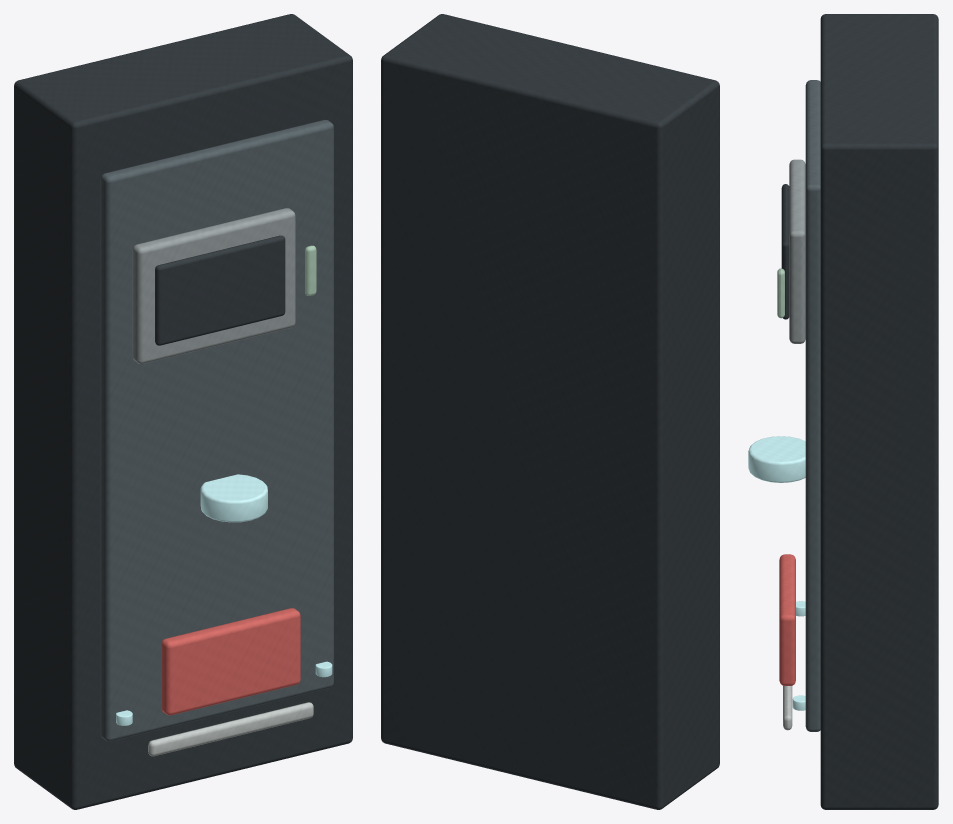
The model's file is AirlockControlPanel.glb.
3 renders of one model, left to right at view 1: azimuth 30°, elevation 25°; view 2: azimuth 150°, elevation 25°; view 3: azimuth 270°, elevation 25°, orthographic. The views are drawn at different scales.
Visible parts, largest first — view 1: AirlockControlPanel_Mesh; view 2: AirlockControlPanel_Mesh; view 3: AirlockControlPanel_Mesh.
Part boxes in pixels (<box>): AirlockControlPanel_Mesh: <box>14,14,352,809</box>; AirlockControlPanel_Mesh: <box>381,14,719,809</box>; AirlockControlPanel_Mesh: <box>748,14,938,809</box>.
Size of the model in its own units: 0.48 by 1.12 by 0.29.
Materials: 7 (7 with a texture image).
